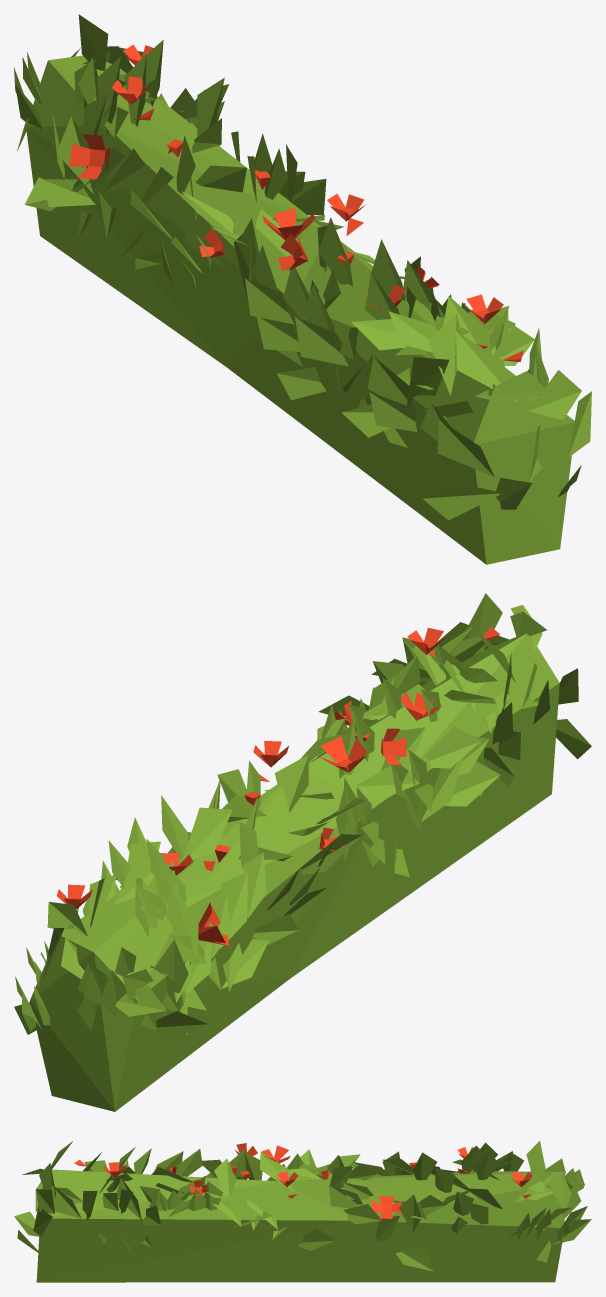
File: SM_Fence_Hedge_City_Short_Flower_2m.fbx
3 renders of one model, top to bottom at view 1: azimuth 30°, elevation 25°; view 2: azimuth 150°, elevation 25°; view 3: azimuth 270°, elevation 25°, orthographic. The views are drawn at different scales.
Parts seen in each view (by area): view 1: SM_Fence_Hedge_City_Short_Flower_2m; view 2: SM_Fence_Hedge_City_Short_Flower_2m; view 3: SM_Fence_Hedge_City_Short_Flower_2m.
Boxes of the visible parts, x1=… form: SM_Fence_Hedge_City_Short_Flower_2m: x1=14, y1=14, x2=591, y2=564; SM_Fence_Hedge_City_Short_Flower_2m: x1=14, y1=593, x2=591, y2=1111; SM_Fence_Hedge_City_Short_Flower_2m: x1=14, y1=1141, x2=591, y2=1282.
Size of the model in its own units: 0.4977 by 0.5703 by 2.29.
